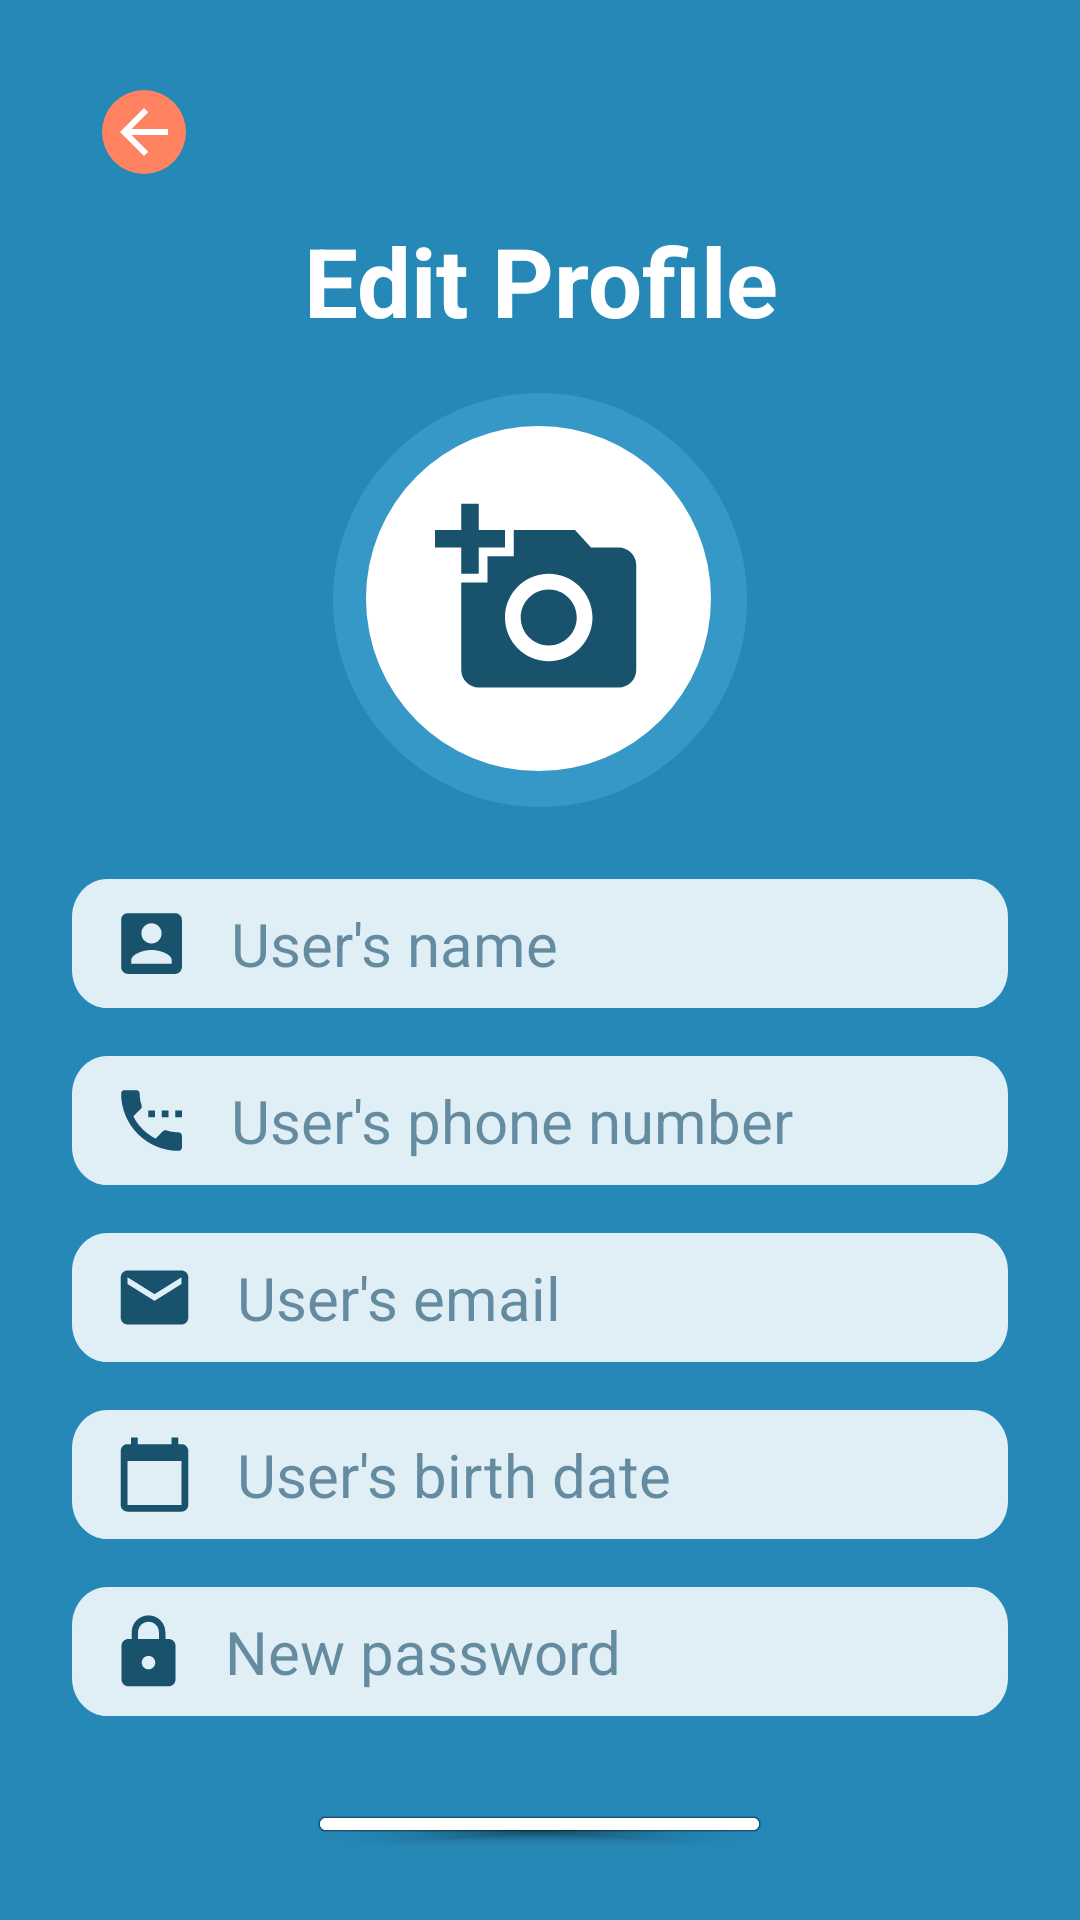

Screen size 1080×1920. Icon name, then its box in pixels as (x1, y1, x2, y2):
back: (102, 90, 186, 174)
